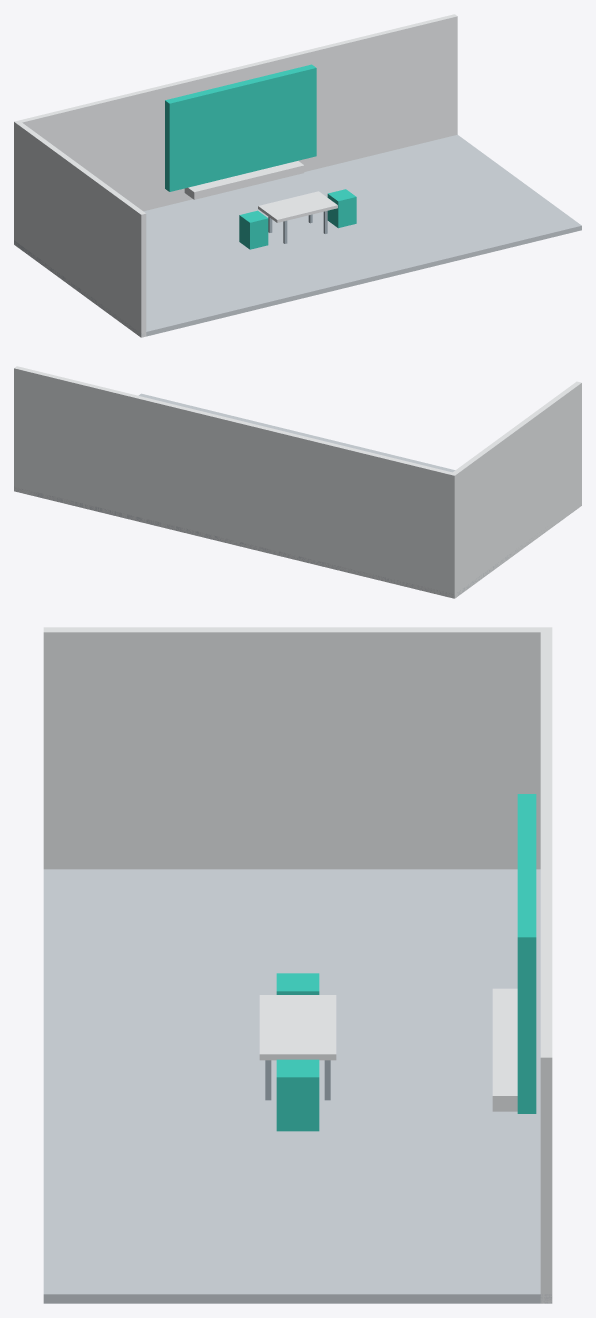
The picture shows the model from 3 angles, top to bottom: view 1: azimuth 30°, elevation 25°; view 2: azimuth 150°, elevation 25°; view 3: azimuth 270°, elevation 25°; orthographic projection. The views are drawn at different scales.
Parts seen in each view (by area): view 1: Exhibition Booth Concept; view 2: Exhibition Booth Concept; view 3: Exhibition Booth Concept.
Boxes of the visible parts, <box> form: Exhibition Booth Concept: <box>14,14,581,337</box>; Exhibition Booth Concept: <box>14,366,581,598</box>; Exhibition Booth Concept: <box>43,627,552,1303</box>.
Size of the model in its own units: 12 by 3.2 by 6.
